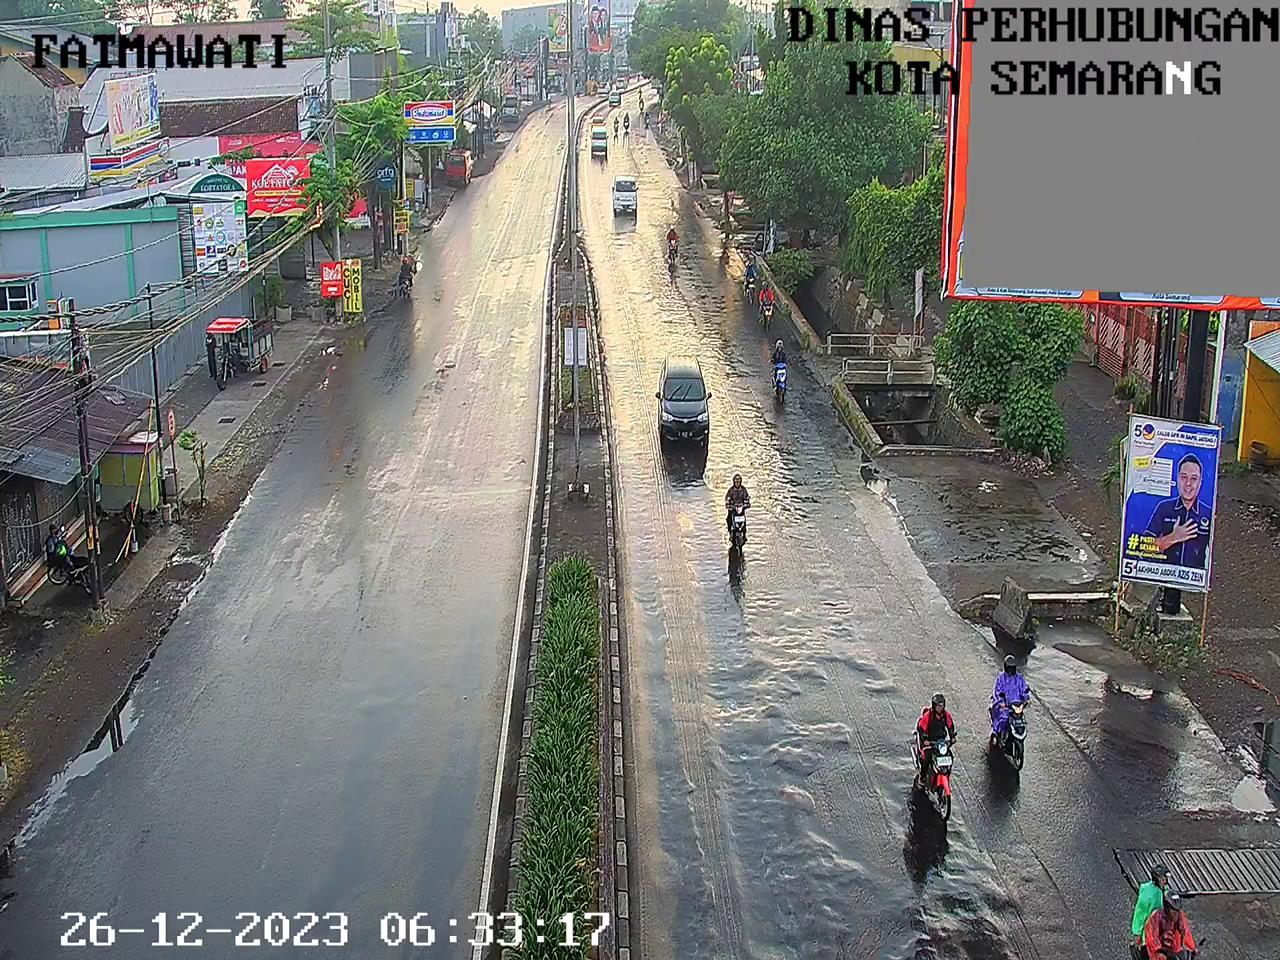car: (641, 354, 735, 452), (615, 176, 640, 216), (590, 128, 609, 153), (589, 113, 605, 130), (609, 90, 624, 105)
motorcycle: (977, 653, 1046, 796), (1126, 870, 1220, 960), (910, 698, 966, 828), (721, 475, 764, 582), (759, 275, 785, 341), (661, 210, 682, 281), (772, 345, 790, 406), (741, 256, 761, 303), (622, 115, 635, 133), (641, 114, 652, 128), (636, 99, 647, 111), (613, 120, 620, 136), (635, 85, 645, 94)
